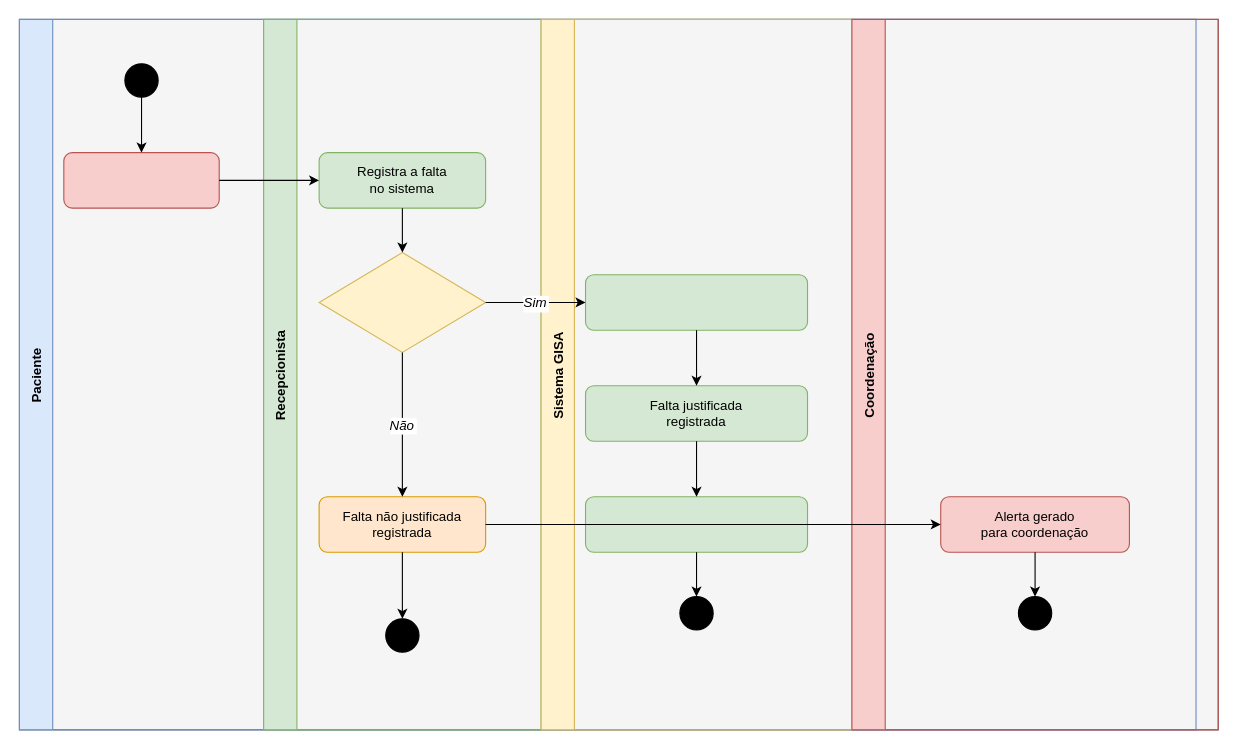
Image size: 1238x749. Some labels were removed from this diagram. Here are the shapes that lost their labels. From the top down, the centre of each, then its label:
point 141,180: Não comparece à consulta
point 402,301: Paciente apresentou atestado?
point 696,302: Atestado anexado ao registro
point 696,524: Prestação de contas ao governo mantida
